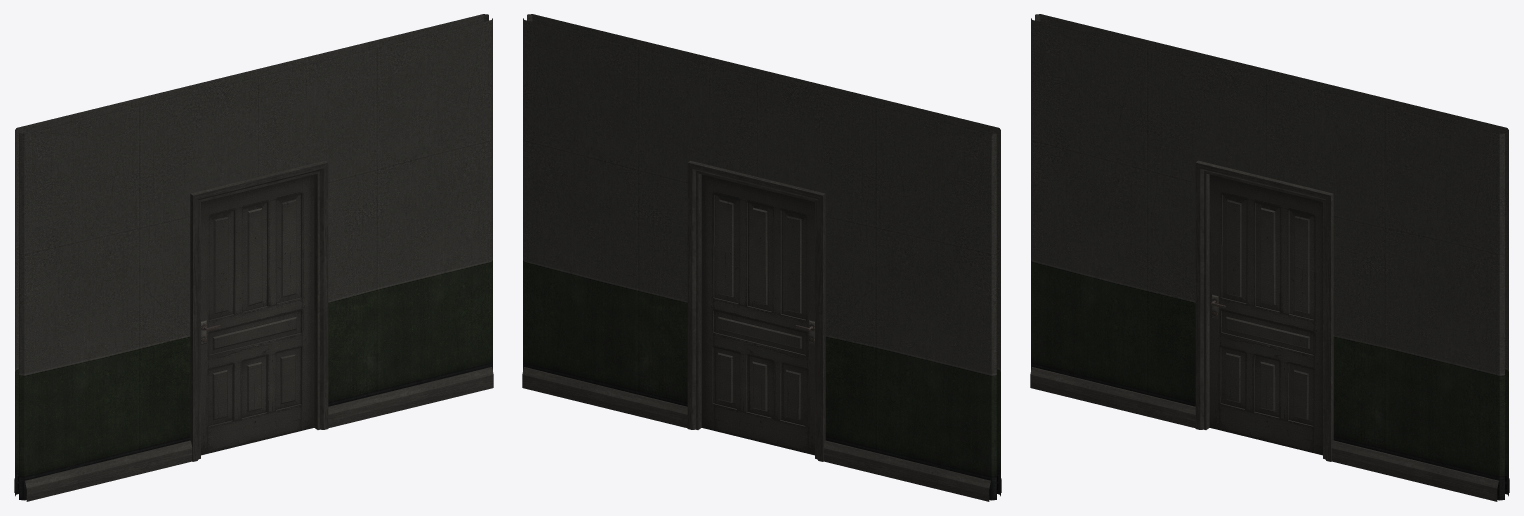
File: doorway_2_1.obj
The picture shows the model from 3 angles, left to right: view 1: azimuth 30°, elevation 25°; view 2: azimuth 150°, elevation 25°; view 3: azimuth 330°, elevation 25°; orthographic projection.
Visible parts, largest first — view 1: doorway_2_1, door_1; view 2: doorway_2_1, door_1; view 3: doorway_2_1, door_1.
Part boxes in pixels (x1,y1,x2,y2): doorway_2_1: (14,14,493,501); door_1: (201,174,314,455); doorway_2_1: (522,14,1001,501); door_1: (701,174,814,455); doorway_2_1: (1030,14,1509,501); door_1: (1209,174,1322,455).
Size of the model in its own units: 4.06 by 3 by 0.2.
